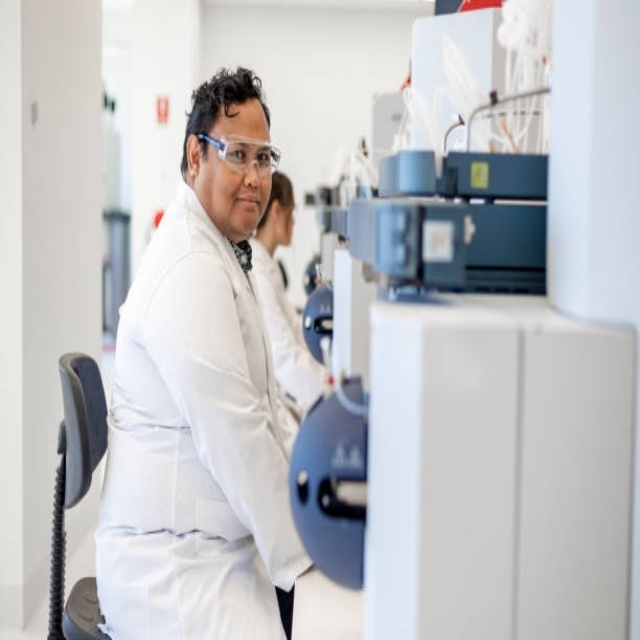Gafas: (198, 132, 282, 176)
Sin_mascara: (231, 187, 262, 229)
